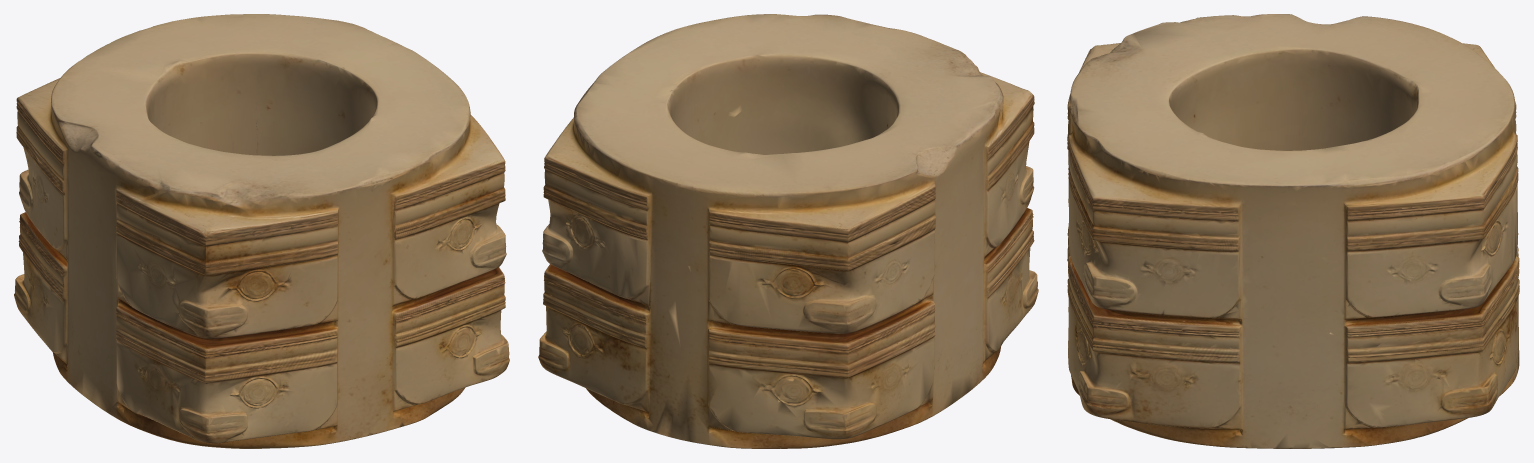
Rendered from liangzhu-early-detail.glb.
3 views of the same model, side by side, from view 1: azimuth 30°, elevation 25°; view 2: azimuth 150°, elevation 25°; view 3: azimuth 270°, elevation 25° (orthographic). The views are drawn at different scales.
Visible parts, largest first — view 1: node_0; view 2: node_0; view 3: node_0.
Part boxes in pixels (<box>): node_0: <box>14,14,509,448</box>; node_0: <box>538,14,1038,448</box>; node_0: <box>1067,14,1519,448</box>.
Bounding box in the file's own units: 0.837 × 0.5927 × 0.9147.
Materials: 1 (1 with a texture image).
